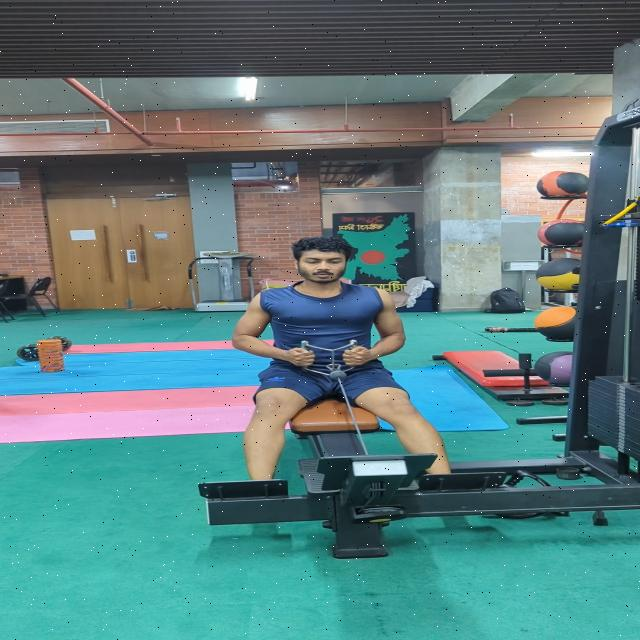Normal_RowingMachineExercise: (231, 236, 451, 485)
